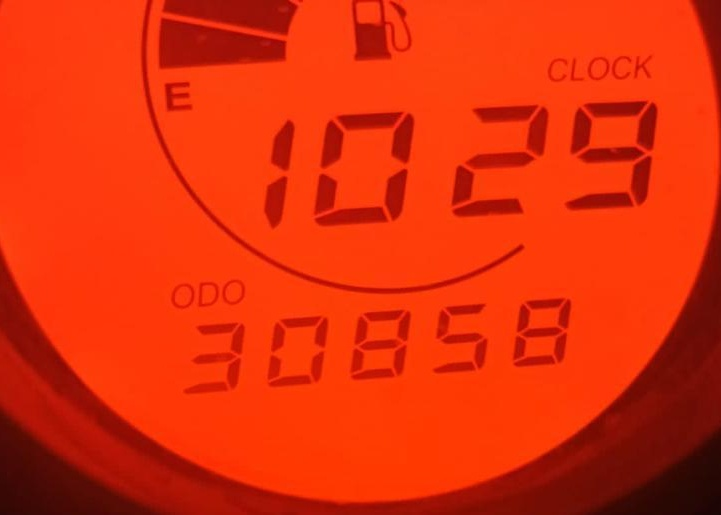0: (310, 106, 417, 230), (264, 314, 329, 388)
1: (261, 114, 298, 231)
2: (450, 101, 554, 220)
3: (180, 321, 244, 394)
5: (430, 302, 488, 374)
8: (348, 307, 411, 380), (511, 296, 572, 367)
9: (565, 98, 658, 213)
X: (159, 75, 194, 112), (195, 279, 219, 307), (170, 281, 194, 308), (221, 278, 245, 304), (587, 56, 609, 79), (546, 57, 567, 81), (611, 54, 630, 79), (634, 53, 652, 79), (569, 56, 583, 82)
